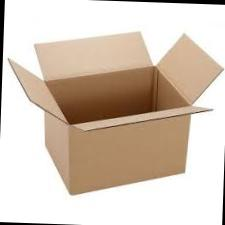cardboard: (3, 13, 218, 210)
